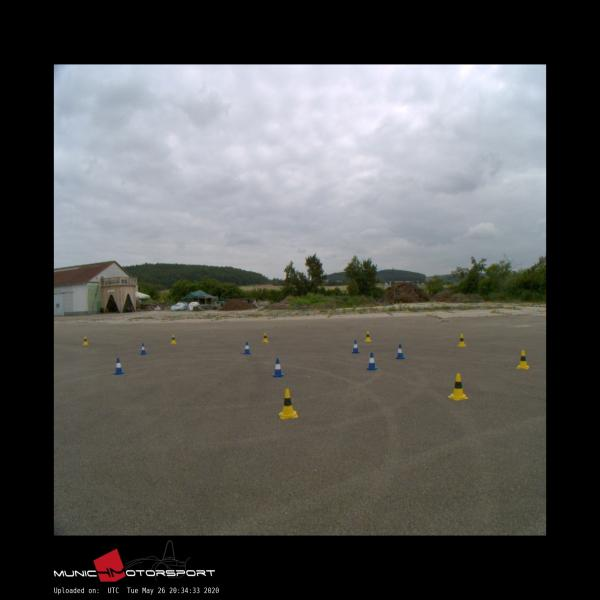blue_cone: (272, 358, 283, 375), (367, 352, 377, 370), (114, 358, 123, 374), (396, 344, 404, 359), (243, 342, 251, 354), (140, 343, 146, 355), (352, 340, 358, 352)
yellow_cone: (278, 388, 297, 419), (448, 373, 468, 400), (516, 350, 528, 369), (457, 334, 466, 346), (364, 331, 371, 342), (82, 335, 88, 345), (262, 332, 268, 341), (170, 334, 176, 342)
